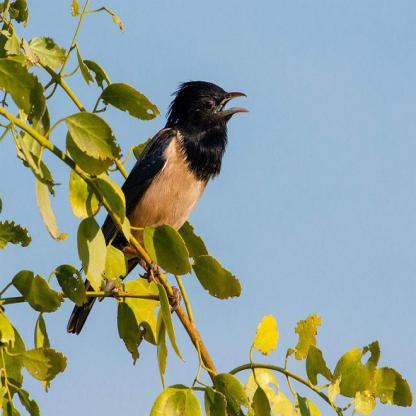Burung: (68, 83, 250, 336)
